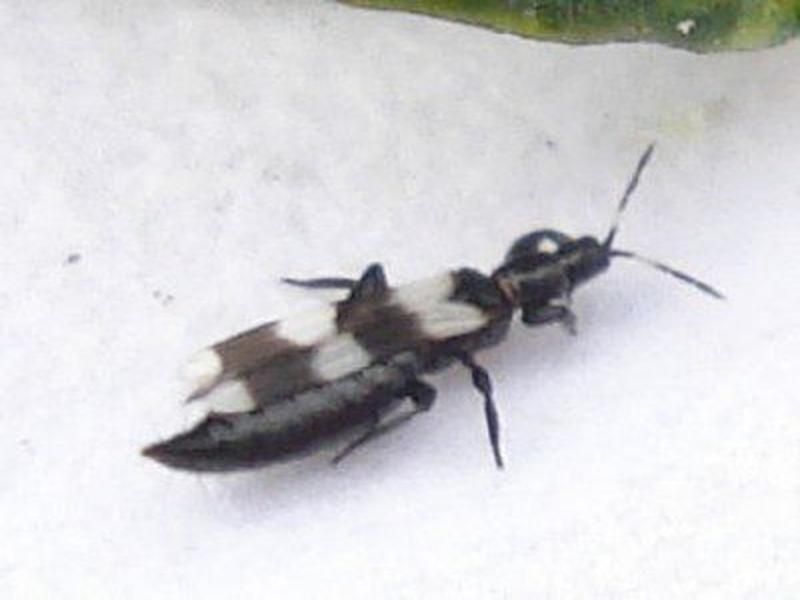Thrips: (136, 211, 640, 489)
